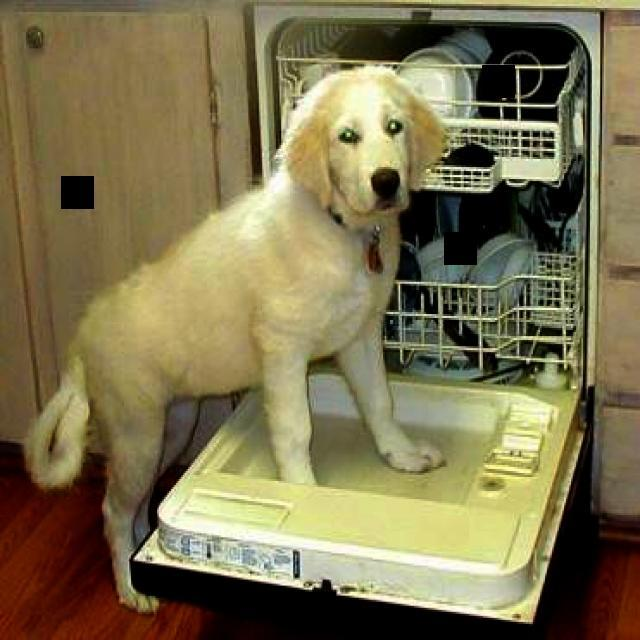puppy-dog: (26, 67, 452, 610)
